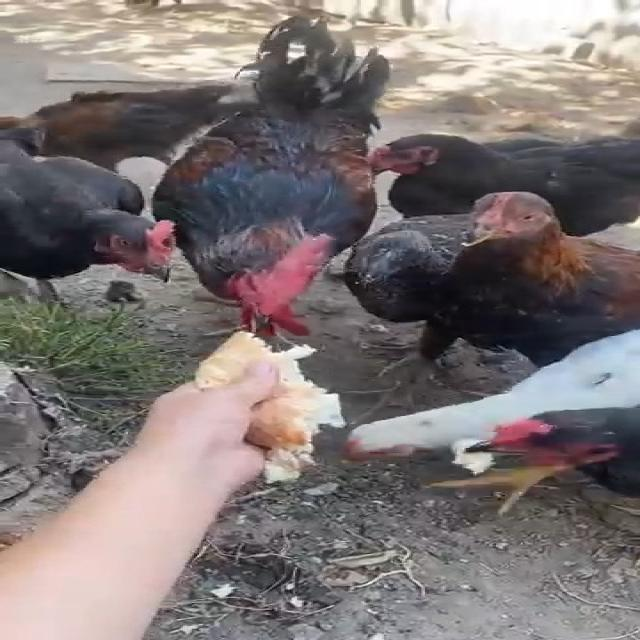feeding: (185, 18, 398, 352), (423, 410, 640, 506)
